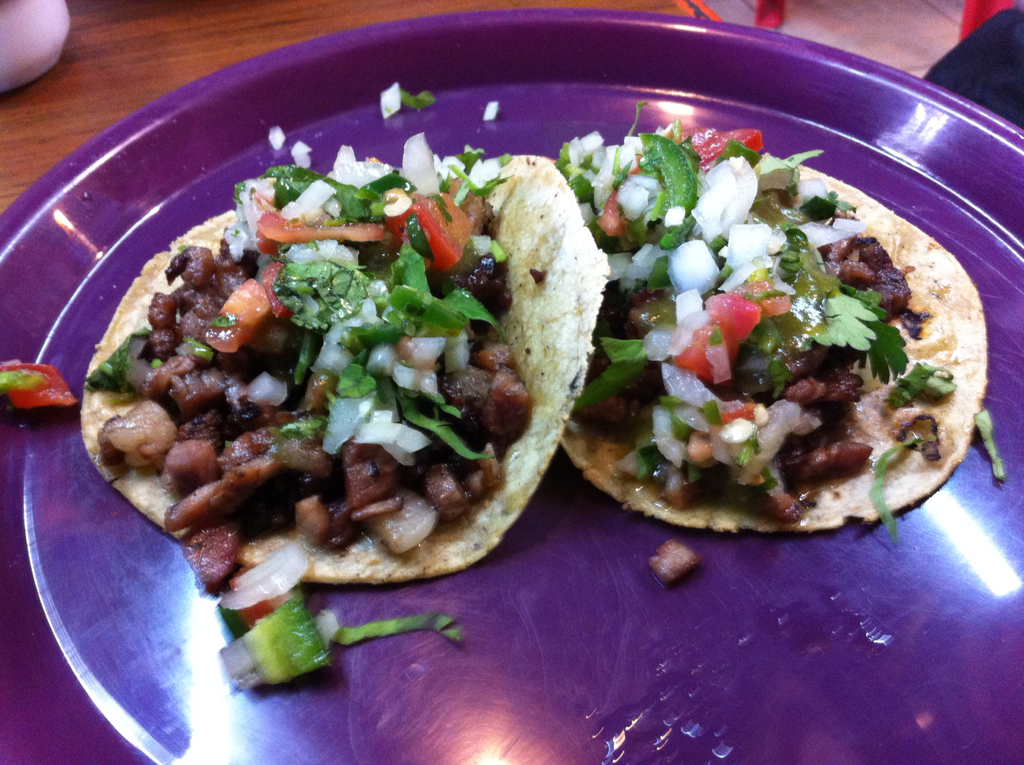taco: (72, 148, 612, 608), (553, 99, 983, 535)
